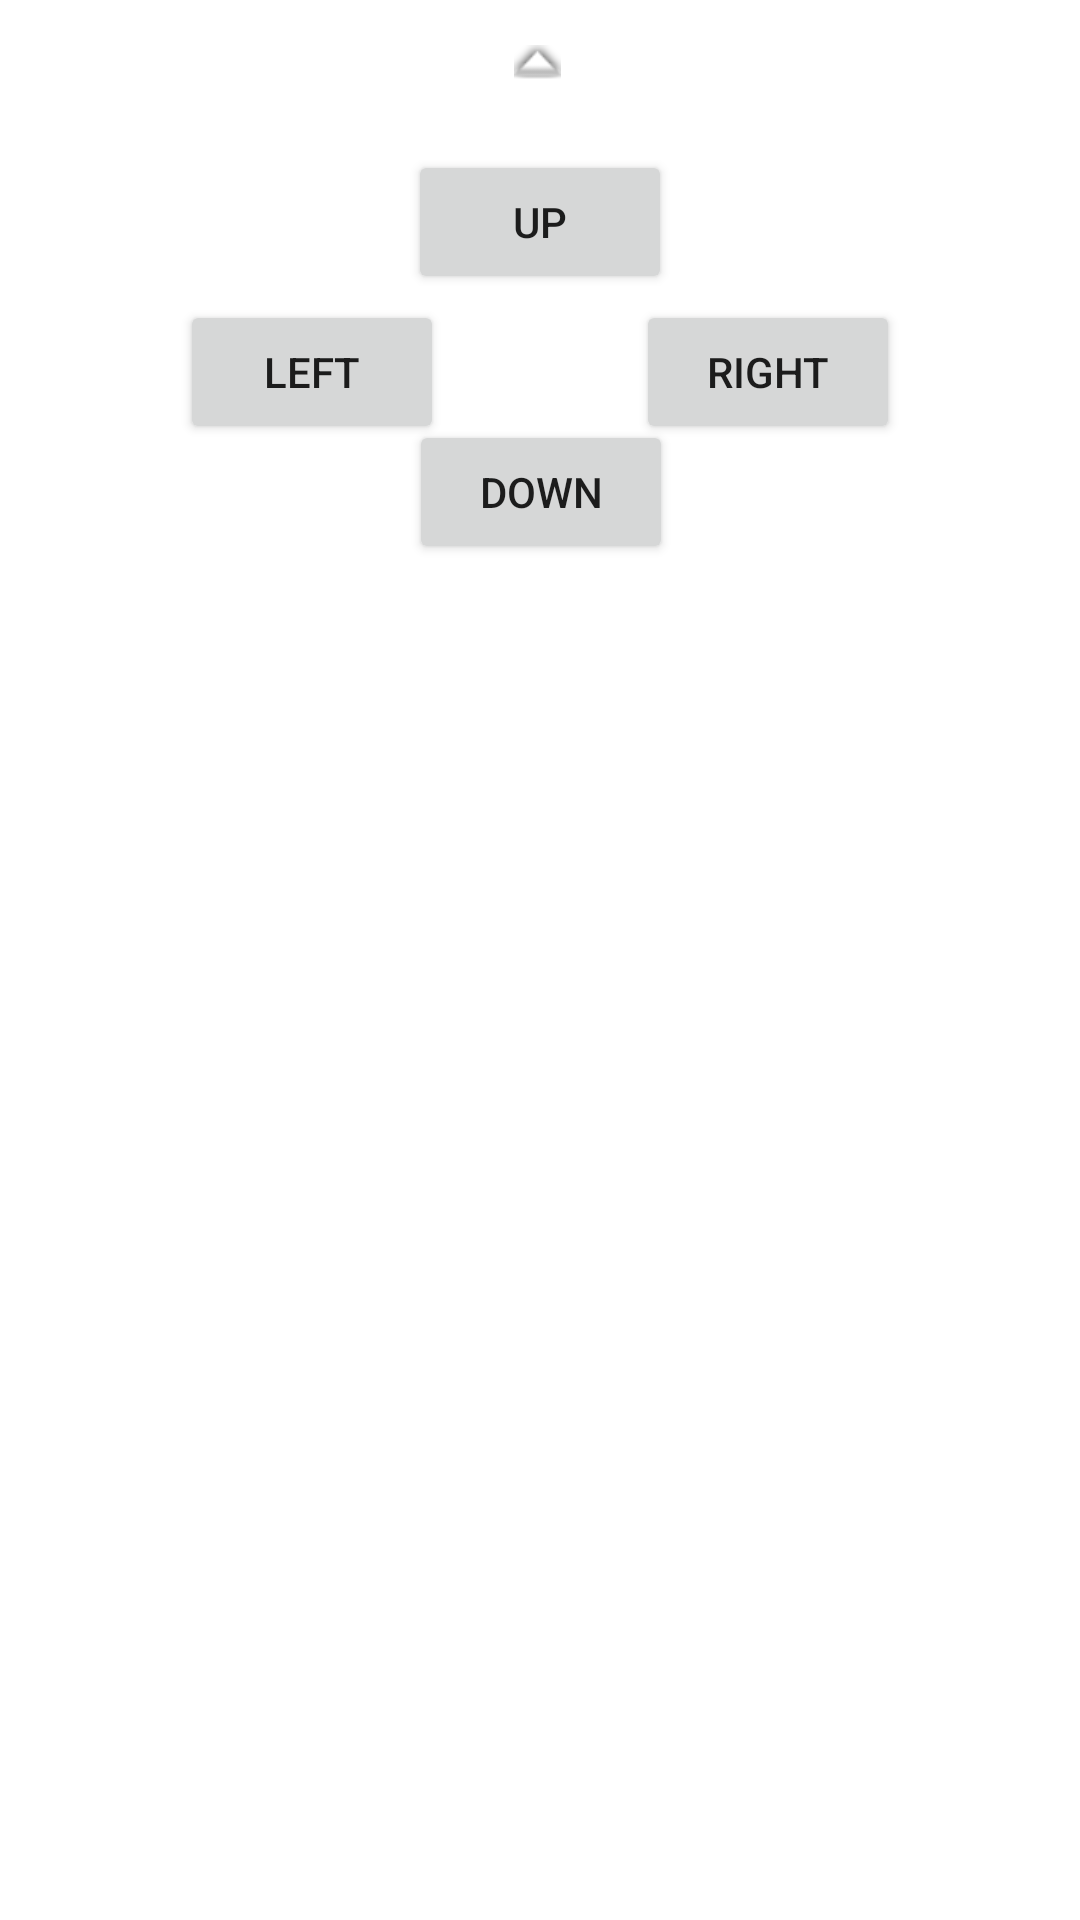

Icons on this 1080px x 1920px Android screen, each with the point to tap as (x=x, y=y):
arrow up float: (x=537, y=62)
